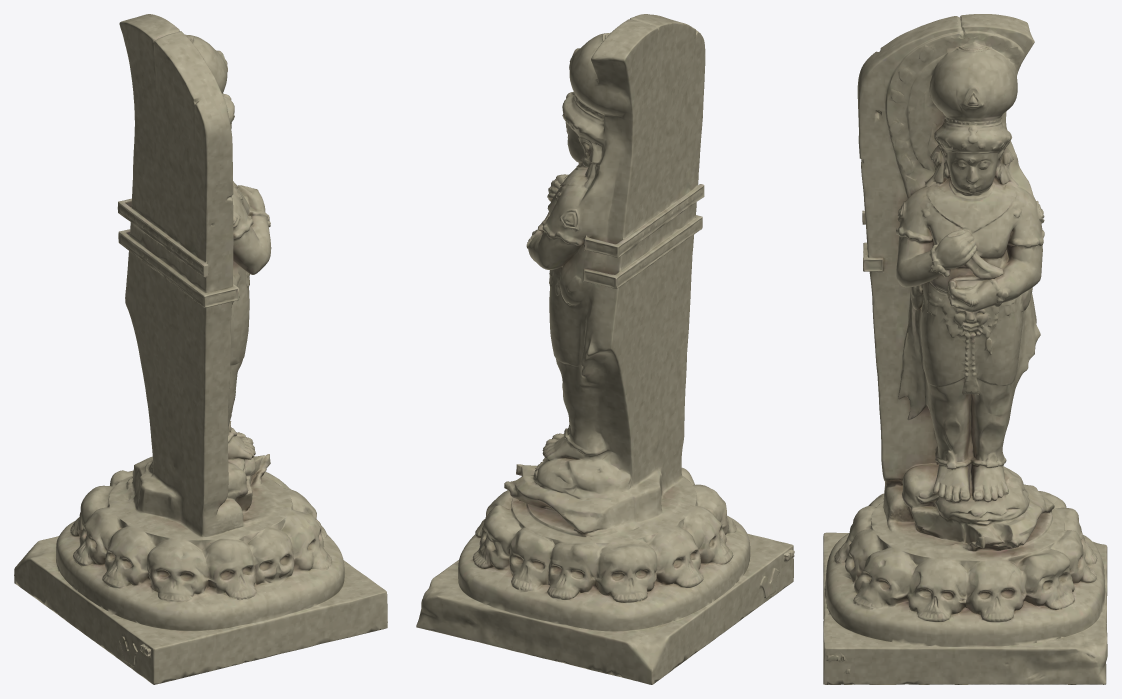
File: Bhairava_Buddha-v3.glb
3 views of the same model, side by side, from view 1: azimuth 30°, elevation 25°; view 2: azimuth 150°, elevation 25°; view 3: azimuth 270°, elevation 25° (orthographic).
Visible parts, largest first — view 1: tripo_node_32bde73a-3141-400d-b826-7c7a7aec05b2; view 2: tripo_node_32bde73a-3141-400d-b826-7c7a7aec05b2; view 3: tripo_node_32bde73a-3141-400d-b826-7c7a7aec05b2.
Boxes of the visible parts, left/top/right/bottom form: tripo_node_32bde73a-3141-400d-b826-7c7a7aec05b2: left=14, top=14, right=387, bottom=684; tripo_node_32bde73a-3141-400d-b826-7c7a7aec05b2: left=416, top=14, right=794, bottom=684; tripo_node_32bde73a-3141-400d-b826-7c7a7aec05b2: left=823, top=14, right=1107, bottom=684.
Bounding box in the file's own units: 0.4194 × 0.9795 × 0.428.
1 material, 1 textured.
